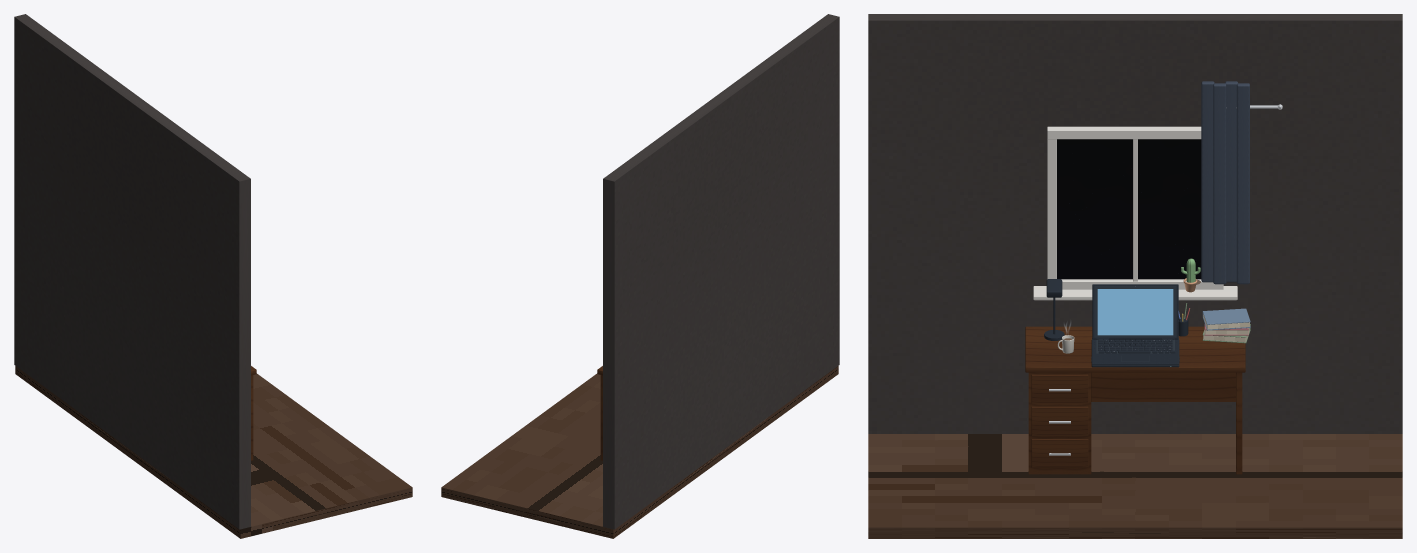
The model's file is menu_notebook.glb.
3 views of the same model, side by side, from view 1: azimuth 30°, elevation 25°; view 2: azimuth 150°, elevation 25°; view 3: azimuth 270°, elevation 25° (orthographic). The views are drawn at different scales.
Parts seen in each view (by area): view 1: ParedeDoMenu, PisoDoMenu; view 2: ParedeDoMenu, PisoDoMenu; view 3: ParedeDoMenu, PisoDoMenu, PaisagemDaJanela, Escrivaninha, Cortina, Janela, TelaNotebook, Notebook, LivrosDaMesa, TeclasIndividuais, MolduraInterna, TampaNotebook.
Boxes of the visible parts, bbox=[...] form: ParedeDoMenu: bbox=[14, 14, 250, 529]; PisoDoMenu: bbox=[15, 366, 412, 538]; ParedeDoMenu: bbox=[603, 14, 839, 529]; PisoDoMenu: bbox=[441, 366, 838, 538]; ParedeDoMenu: bbox=[868, 14, 1402, 433]; PisoDoMenu: bbox=[868, 434, 1402, 538]; PaisagemDaJanela: bbox=[1057, 139, 1201, 279]; Escrivaninha: bbox=[1025, 326, 1245, 474]; Cortina: bbox=[1201, 81, 1249, 284]; Janela: bbox=[1033, 126, 1237, 300]; TelaNotebook: bbox=[1097, 289, 1173, 335]; Notebook: bbox=[1091, 338, 1179, 367]; LivrosDaMesa: bbox=[1202, 308, 1250, 343]; TeclasIndividuais: bbox=[1098, 339, 1175, 353]; MolduraInterna: bbox=[1094, 286, 1176, 337]; TampaNotebook: bbox=[1092, 284, 1178, 339].
Size of the model in its own units: 1.51 by 2.98 by 3.4.
30 materials, 11 textured.
